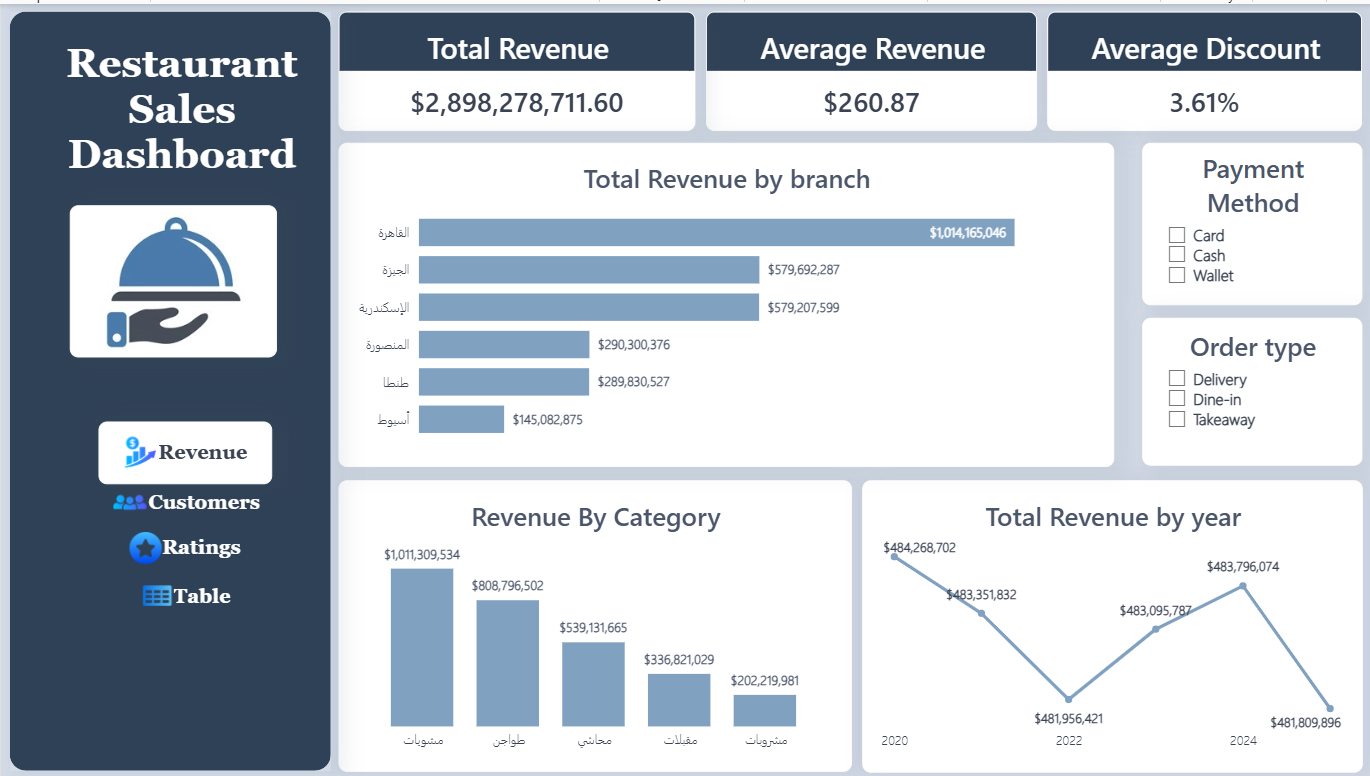

What the dashboard file says about the page in this screenshot:
{"tool":"powerbi","page":{"name":"Revenue","canvas":[1280,720],"ordinal":0},"visuals":[{"type":"cardVisual","title":"Average Revenue","fields":{"Data":["Measures_table.Average_Revenue"]},"box":[655.5,7.1,307.9,111.3],"z":0},{"type":"cardVisual","title":"Total Revenue","fields":{"Data":["Measures_table.Total Revenue"]},"box":[313.8,7.1,331.6,111.3],"z":1000},{"type":"cardVisual","title":"Average Discount","fields":{"Data":["Measures_table.Average_Discount"]},"box":[973.5,7.1,292.5,111.3],"z":2000},{"type":"clusteredColumnChart","title":"Revenue By Category","fields":{"Category":["fullrestaurant.category"],"Y":["Sum(fullrestaurant.total_amount)"]},"box":[313.8,442.9,477.3,271.2],"z":3000},{"type":"lineChart","fields":{"Y":["Measures_table.Total Revenue"],"Category":["fullrestaurant.year"]},"box":[800.6,442.9,465.4,272.4],"z":4000},{"type":"clusteredBarChart","fields":{"Y":["Measures_table.Total Revenue"],"Category":["fullrestaurant.branch"]},"box":[313.8,129.1,721.2,302],"z":5000},{"type":"slicer","title":"Payment Method","fields":{"Values":["fullrestaurant.payment_method"]},"box":[1061.6,129.1,204.7,151.2],"z":6000},{"type":"shape","box":[8.6,7.4,298.8,706.2],"z":7000},{"type":"image","box":[63.9,187.2,193,141.9],"z":8000},{"type":"textbox","title":"Restaurant Sales & Performance Dashboard","box":[32.5,31.4,255.8,140.7],"z":9000},{"type":"actionButton","title":"Customers","box":[77,434.5,189.5,58.1],"z":10000},{"type":"slicer","title":"Order type","fields":{"Values":["fullrestaurant.order_type"]},"box":[1061.6,291.9,204.7,137.2],"z":11000},{"type":"actionButton","title":"Customers","box":[91,388.4,161.6,58.1],"z":12000},{"type":"actionButton","title":"Customers","box":[89.5,520.9,165.1,59.3],"z":13000},{"type":"actionButton","title":"Customers","box":[90.7,476.7,161.6,58.1],"z":14000}]}

Visuals, with their boxes in screenshot pixels (x1, y1, x2, y2), scaled from the page's 1280x720 canvas onto the 1370x776 screenshot:
"Average Revenue" cardVisual: left=702, top=8, right=1031, bottom=128
"Total Revenue" cardVisual: left=336, top=8, right=691, bottom=128
"Average Discount" cardVisual: left=1042, top=8, right=1355, bottom=128
"Revenue By Category" clusteredColumnChart: left=336, top=477, right=847, bottom=770
lineChart - Measures_table.Total Revenue x fullrestaurant.year: left=857, top=477, right=1355, bottom=771
clusteredBarChart - Measures_table.Total Revenue x fullrestaurant.branch: left=336, top=139, right=1108, bottom=465
"Payment Method" slicer: left=1136, top=139, right=1355, bottom=302
shape: left=9, top=8, right=329, bottom=769
image: left=68, top=202, right=275, bottom=355
"Restaurant Sales & Performance Dashboard" textbox: left=35, top=34, right=309, bottom=185
"Customers" actionButton: left=82, top=468, right=285, bottom=531
"Order type" slicer: left=1136, top=315, right=1355, bottom=462
"Customers" actionButton: left=97, top=419, right=270, bottom=481
"Customers" actionButton: left=96, top=561, right=273, bottom=625
"Customers" actionButton: left=97, top=514, right=270, bottom=576
